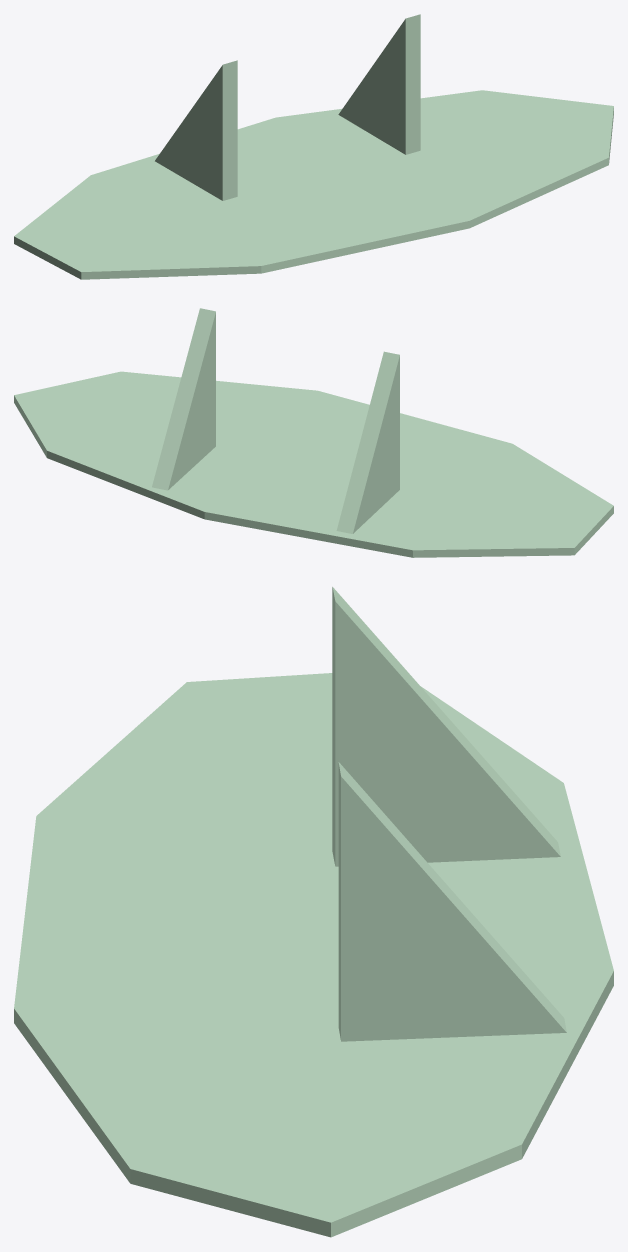
The model's file is doubleStandTextured.fbx.
3 views of the same model, one above another, from view 1: azimuth 30°, elevation 25°; view 2: azimuth 150°, elevation 25°; view 3: azimuth 270°, elevation 25° (orthographic). The views are drawn at different scales.
Parts seen in each view (by area): view 1: pCylinder17, pCube40, pCube39; view 2: pCylinder17, pCube39, pCube40; view 3: pCylinder17, pCube39, pCube40.
Part boxes in pixels (x1,y1,x2,y2): pCylinder17: [14, 90, 613, 279]; pCube40: [155, 60, 237, 200]; pCube39: [338, 14, 420, 154]; pCylinder17: [14, 371, 613, 557]; pCube39: [152, 308, 215, 490]; pCube40: [336, 351, 399, 533]; pCylinder17: [14, 673, 613, 1237]; pCube39: [338, 762, 566, 1041]; pCube40: [332, 587, 560, 866].
Bounding box in the file's own units: 17.5 × 4.13 × 8.01.
